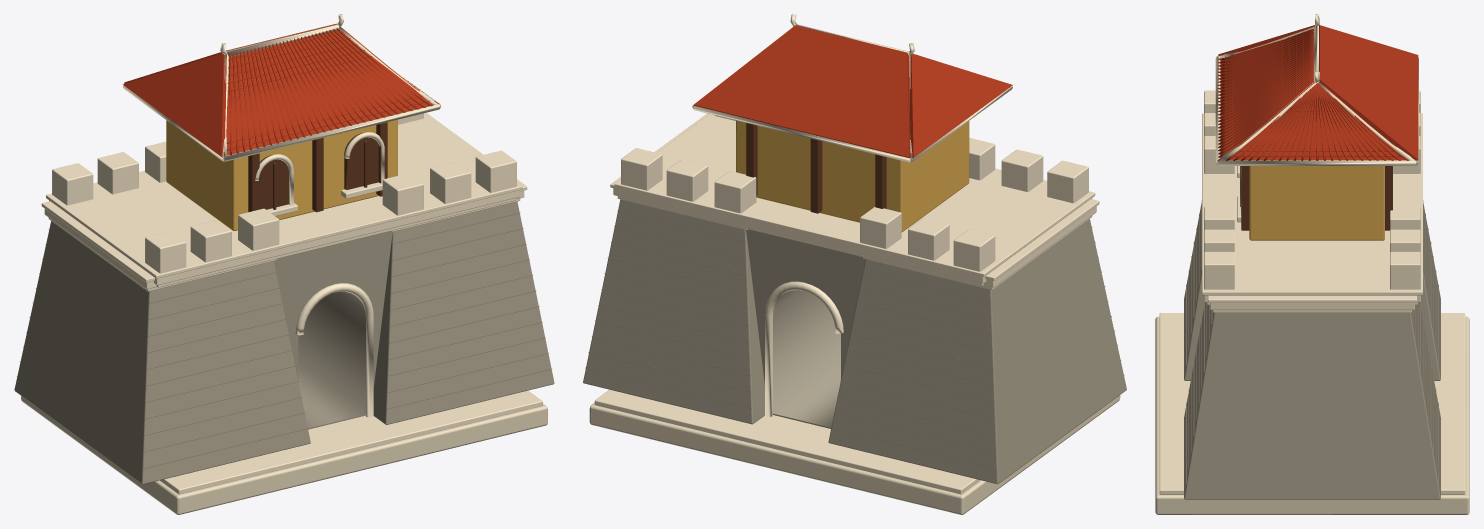
The model's file is vinh.glb.
3 views of the same model, side by side, from view 1: azimuth 30°, elevation 25°; view 2: azimuth 150°, elevation 25°; view 3: azimuth 270°, elevation 25° (orthographic).
Visible parts, largest first — view 1: LANDMARK_vinh.001; view 2: LANDMARK_vinh.001; view 3: LANDMARK_vinh.001.
Boxes of the visible parts, <box> form: LANDMARK_vinh.001: <box>14,14,554,514</box>; LANDMARK_vinh.001: <box>583,14,1126,514</box>; LANDMARK_vinh.001: <box>1155,14,1469,514</box>.
Size of the model in its own units: 1.42 by 1.26 by 0.9379.
